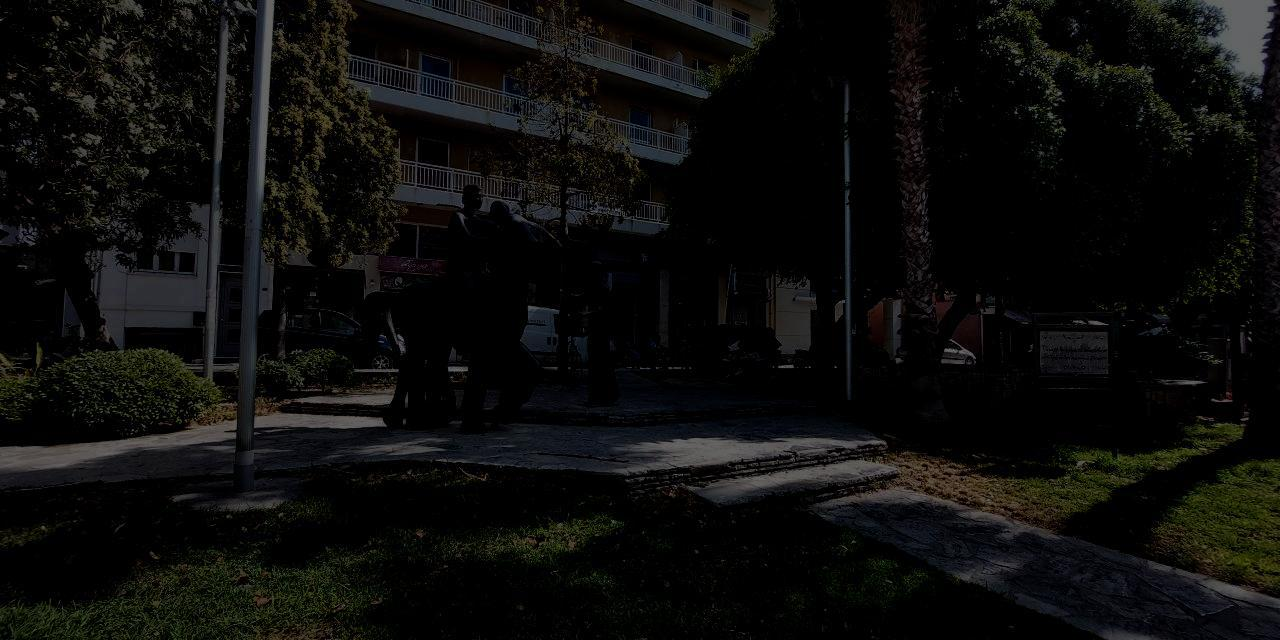Aretousa: (361, 186, 621, 434)
